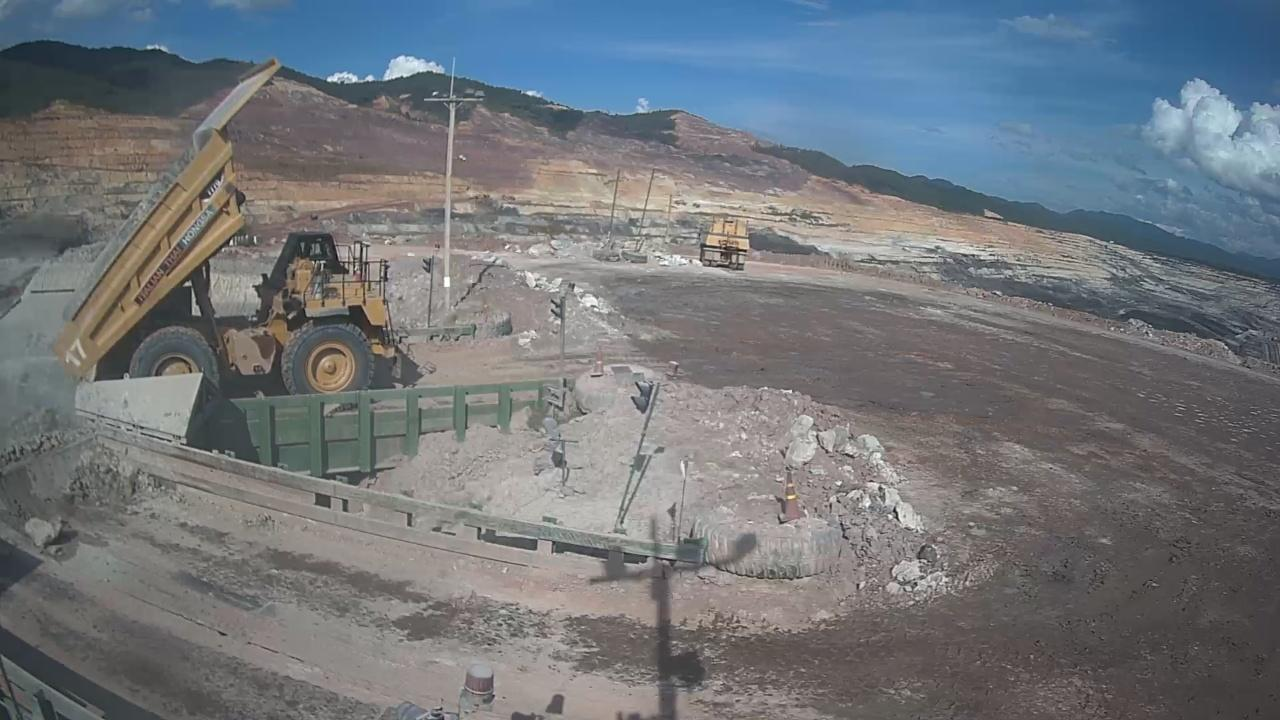company: (133, 202, 220, 307)
dumping_soil: (53, 55, 414, 401)
tail_number: (61, 339, 91, 371)
truck_size: (197, 176, 227, 201)
